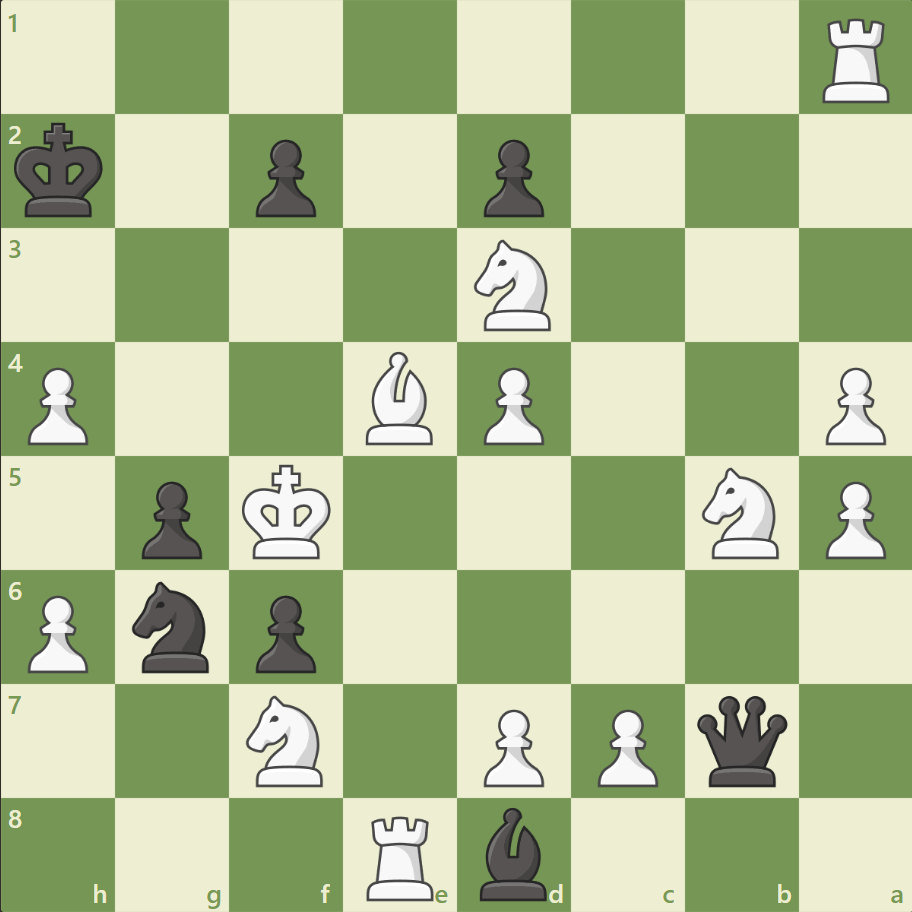B: (358, 347, 442, 449)
K: (238, 458, 338, 566)
N: (238, 688, 335, 791), (692, 461, 789, 564), (465, 234, 562, 337)
P: (474, 700, 549, 791), (20, 586, 95, 677), (474, 359, 549, 450), (20, 359, 95, 450), (588, 700, 662, 791), (815, 473, 889, 564), (815, 359, 889, 450)
R: (814, 12, 897, 109), (360, 806, 442, 904)
b: (471, 801, 555, 904)
k: (11, 117, 111, 225)
n: (124, 575, 222, 677)
p: (247, 586, 322, 677), (133, 473, 208, 564), (474, 132, 549, 223), (247, 132, 322, 223)
q: (691, 690, 790, 789)
